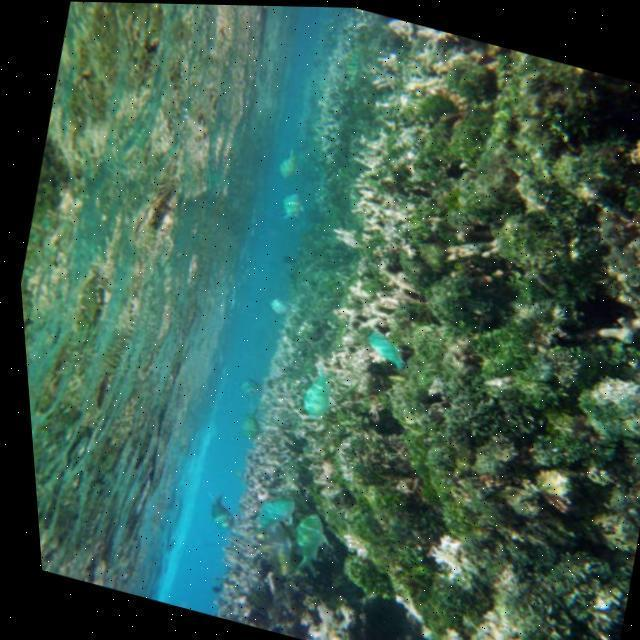Healthy Coral: (214, 15, 640, 638)
